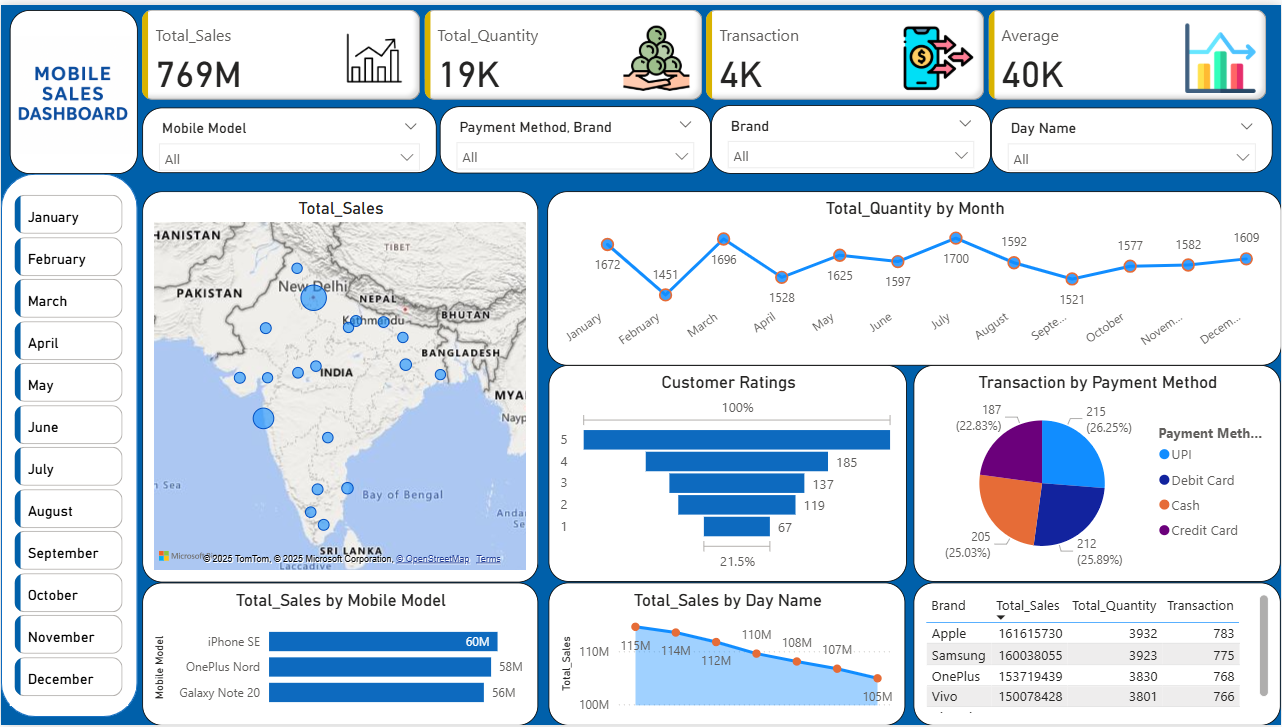

This screenshot's page, from the dashboard's own definition file:
{"tool":"powerbi","page":{"name":"Page 1","canvas":[1280,720],"ordinal":0},"visuals":[{"type":"shape","box":[8.7,4.7,128,164],"z":0},{"type":"shape","box":[0,169.2,136.5,543.3],"z":1000},{"type":"advancedSlicerVisual","fields":{"Values":["Sales_Data.Date.Variation.Date Hierarchy.Month"]},"box":[8.2,185.2,118,516],"z":2000},{"type":"cardVisual","fields":{"Data":["Sales_Data.Total_Sales","Sales_Data.Total_Quantity","Sales_Data.Transaction","Sales_Data.Average"]},"box":[136.5,0,1134.6,100],"z":3000},{"type":"lineChart","fields":{"Category":["Sales_Data.Date.Variation.Date Hierarchy.Month","Sales_Data.Date.Variation.Date Hierarchy.Day"],"Y":["Sales_Data.Total_Quantity"]},"box":[545.7,185.7,734.3,174.3],"z":4000},{"type":"barChart","fields":{"Category":["Sales_Data.Mobile Model"],"Y":["Sales_Data.Total_Sales"]},"box":[141.4,577.1,395.7,142.9],"z":5000},{"type":"pieChart","fields":{"Category":["Sales_Data.Payment Method"],"Y":["Sales_Data.Transaction"]},"box":[912.9,360,367.1,217.1],"z":6000},{"type":"funnel","title":" Customer Ratings ","fields":{"Category":["Sales_Data.Customer Ratings"],"Y":["CountNonNull(Sales_Data.Customer Ratings)"]},"box":[547.1,360,358.6,217.1],"z":7000},{"type":"areaChart","fields":{"Category":["Sales_Data.Day Name"],"Y":["Sales_Data.Total_Sales"]},"box":[547.1,577.1,357.1,142.9],"z":8000},{"type":"tableEx","fields":{"Values":["Sales_Data.Brand","Sales_Data.Total_Sales","Sales_Data.Total_Quantity","Sales_Data.Transaction"]},"box":[912.9,577.1,367.1,142.9],"z":9000},{"type":"slicer","fields":{"Values":["Sales_Data.Mobile Model"]},"box":[141.4,102.9,294.3,65.7],"z":10000},{"type":"slicer","fields":{"Values":["Sales_Data.Payment Method","Sales_Data.Brand"]},"box":[438.6,101.4,271.4,67.1],"z":11000},{"type":"slicer","fields":{"Values":["Sales_Data.Brand"]},"box":[710,100,280,68.6],"z":12000},{"type":"slicer","fields":{"Values":["Sales_Data.Day Name"]},"box":[990,102.9,281.4,65.7],"z":13000},{"type":"map","title":"Total_Sales ","fields":{"Category":["Sales_Data.City"],"Size":["Sales_Data.Total_Sales"]},"box":[141.4,185.7,395.7,391.4],"z":14000},{"type":"image","box":[8,0,128.7,179.3],"z":15000}]}

Visuals, with their boxes in screenshot pixels (x1, y1, x2, y2), scaled from the page's 1280x720 canvas onto the 1282x727 screenshot:
shape: region(9, 5, 137, 170)
shape: region(0, 171, 137, 719)
advancedSlicerVisual - Sales_Data.Date.Variation.Date Hierarchy.Month: region(8, 187, 126, 708)
cardVisual - Sales_Data.Total_Sales x Sales_Data.Total_Quantity: region(137, 0, 1273, 101)
lineChart - Sales_Data.Date.Variation.Date Hierarchy.Month x Sales_Data.Date.Variation.Date Hierarchy.Day: region(547, 188, 1281, 364)
barChart - Sales_Data.Mobile Model x Sales_Data.Total_Sales: region(142, 583, 538, 726)
pieChart - Sales_Data.Payment Method x Sales_Data.Transaction: region(914, 364, 1281, 583)
" Customer Ratings " funnel: region(548, 364, 907, 583)
areaChart - Sales_Data.Day Name x Sales_Data.Total_Sales: region(548, 583, 906, 726)
tableEx - Sales_Data.Brand x Sales_Data.Total_Sales: region(914, 583, 1281, 726)
slicer - Sales_Data.Mobile Model: region(142, 104, 436, 170)
slicer - Sales_Data.Payment Method x Sales_Data.Brand: region(439, 102, 711, 170)
slicer - Sales_Data.Brand: region(711, 101, 992, 170)
slicer - Sales_Data.Day Name: region(992, 104, 1273, 170)
"Total_Sales " map: region(142, 188, 538, 583)
image: region(8, 0, 137, 181)
